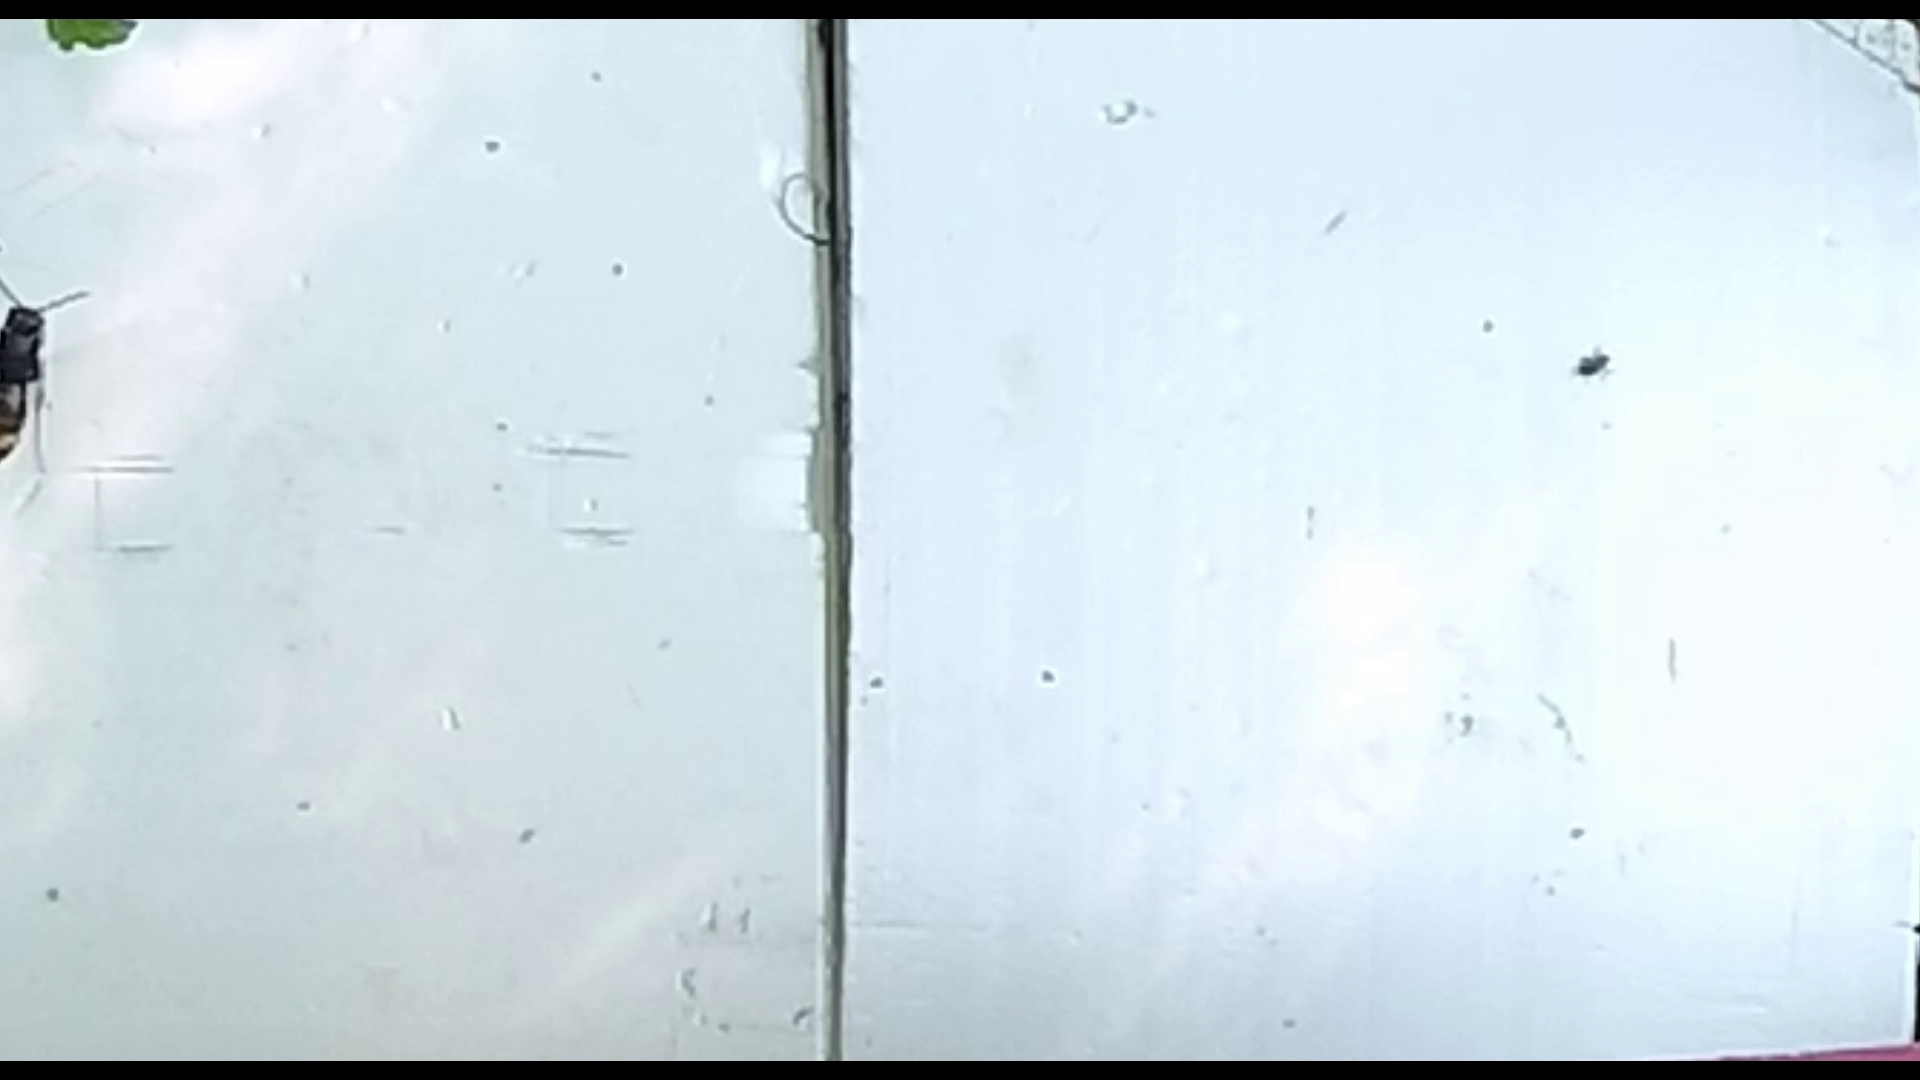Asian_hornets: (0, 270, 100, 487)
